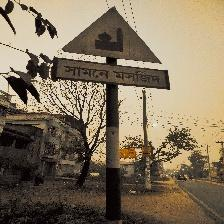Mosque in front: (52, 6, 169, 90)
